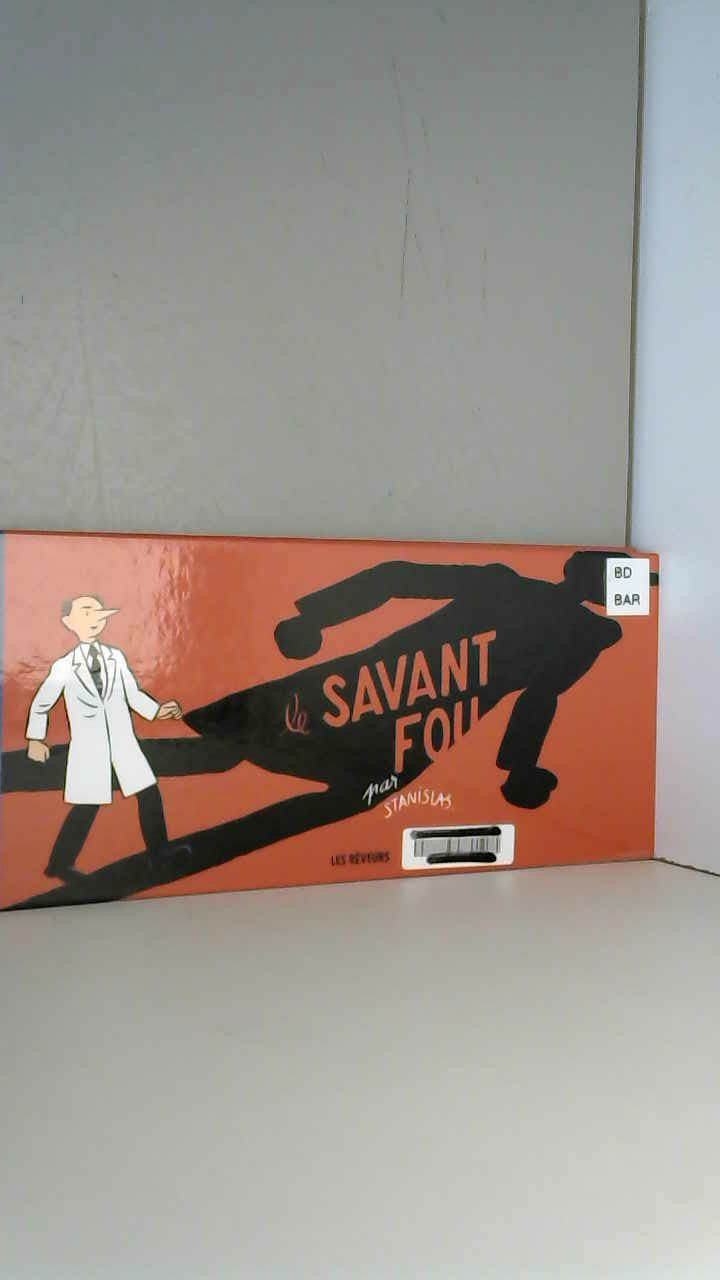book: (0, 496, 663, 924)
